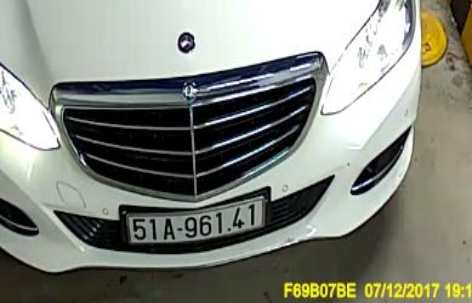plate: (121, 200, 270, 249)
